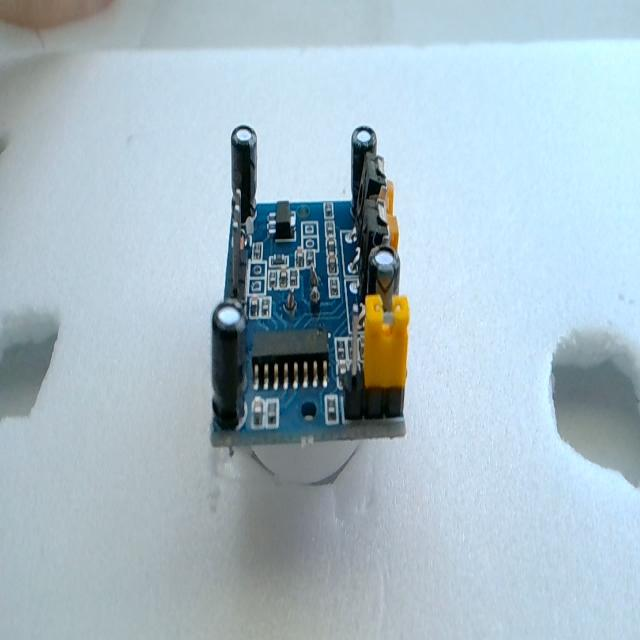Electrolytic capacitor: (210, 302, 248, 426), (230, 124, 258, 227), (350, 125, 378, 216), (368, 244, 400, 308)
IC: (250, 328, 330, 392)
pinheader: (210, 130, 256, 424)
